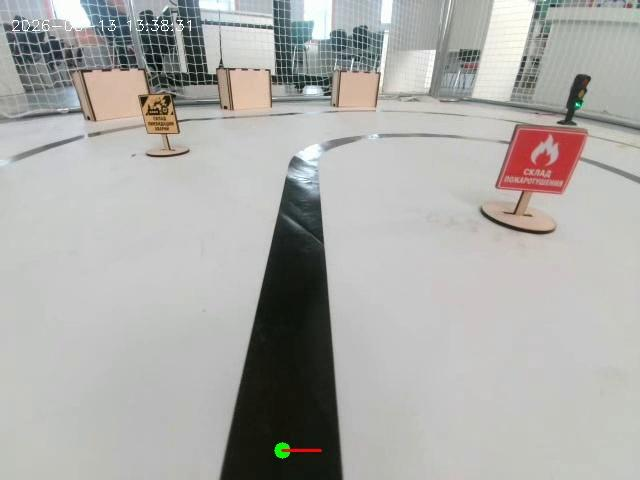fire: (488, 117, 602, 225)
industrial: (131, 80, 184, 157)
